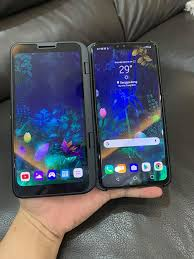lg: (9, 39, 91, 198)
